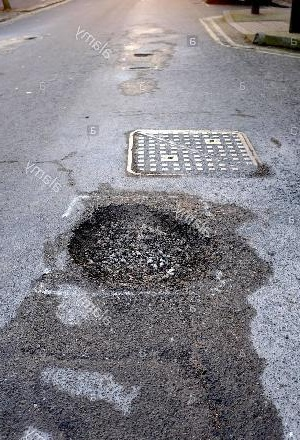pothole: (67, 197, 225, 294), (128, 50, 155, 57)
